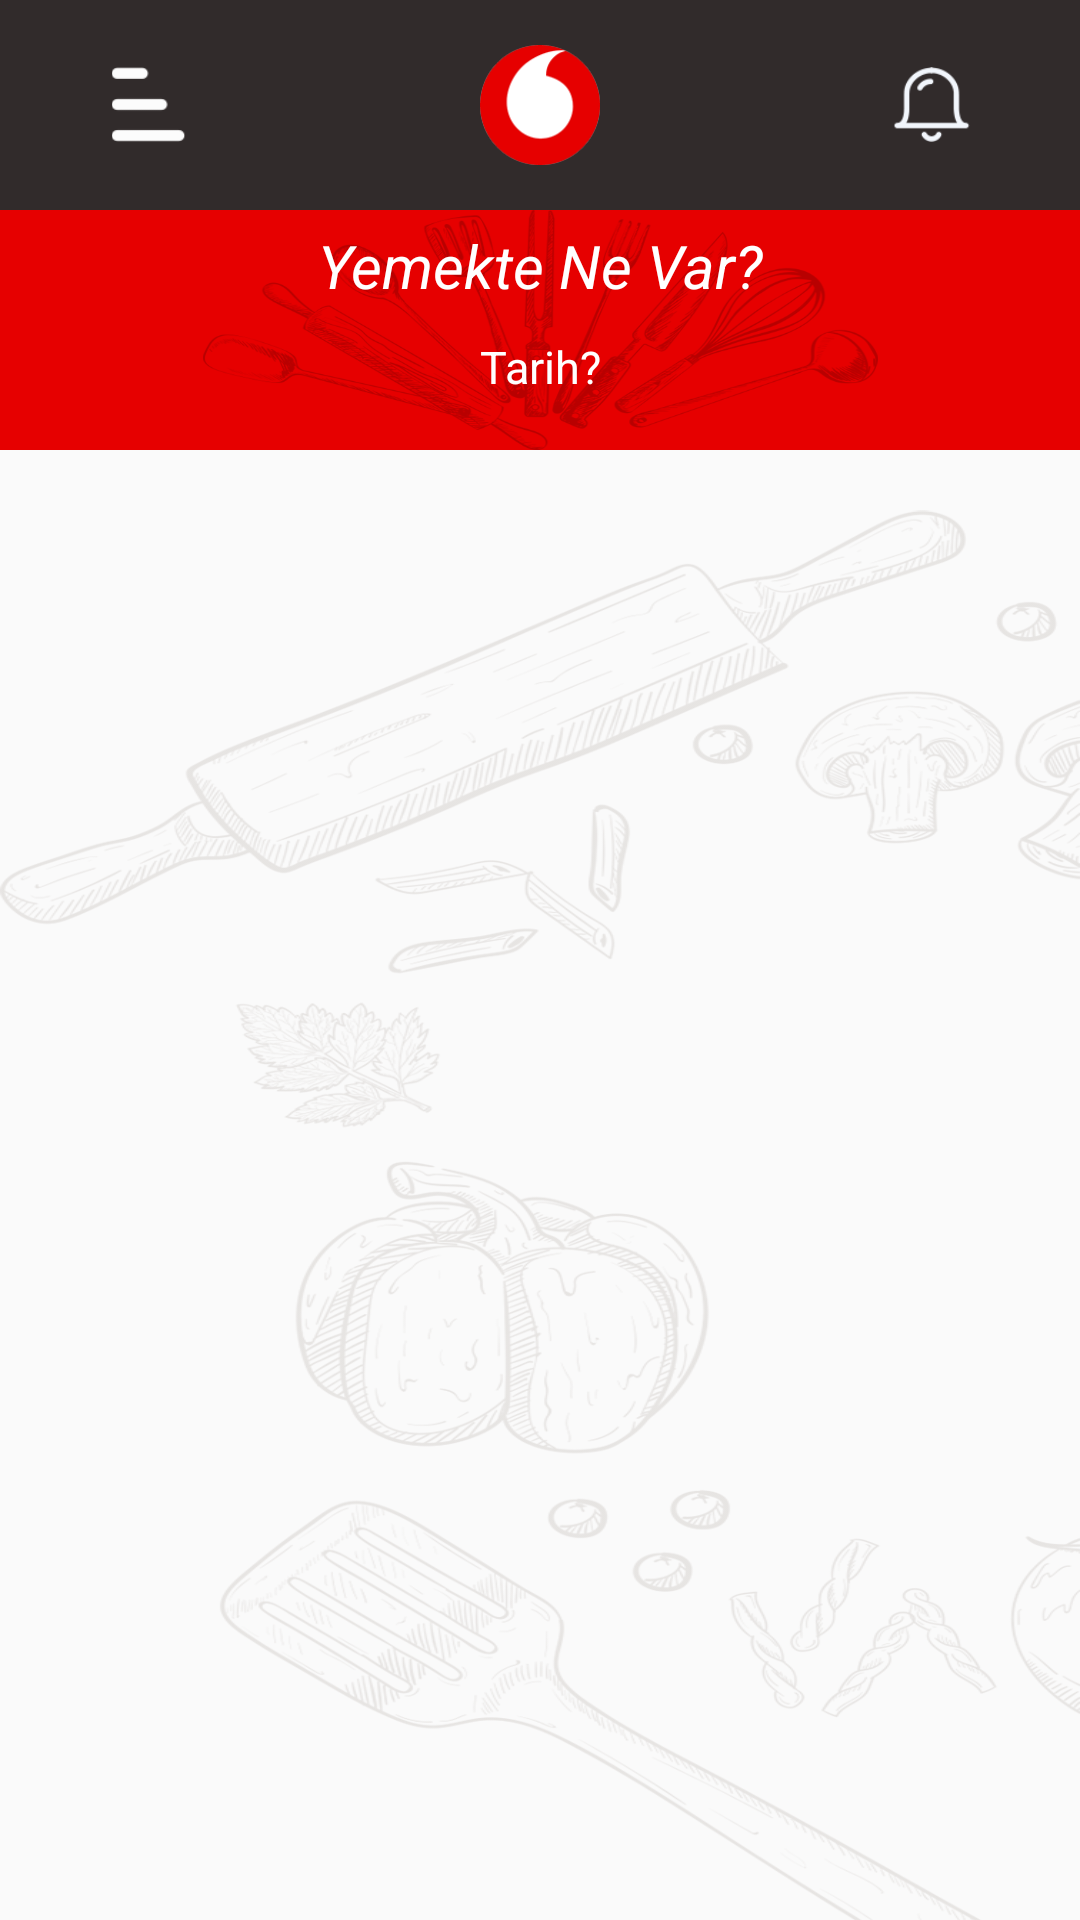

Where to tap for icons on this 1080*1920 app screen, as (x=x, y=y):
menu: (x=148, y=104)
notification: (x=931, y=104)
